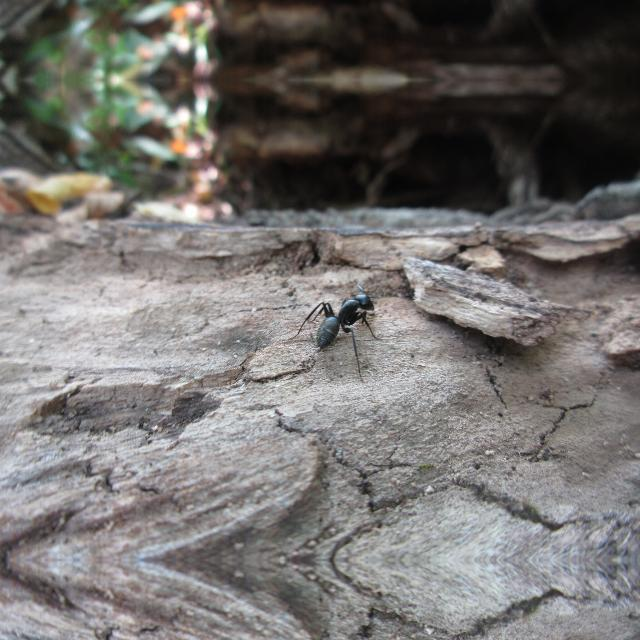Camponotus: (304, 274, 390, 358)
